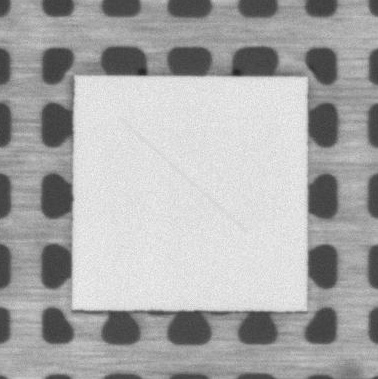DIE_CRACK: (120, 118, 246, 233)
